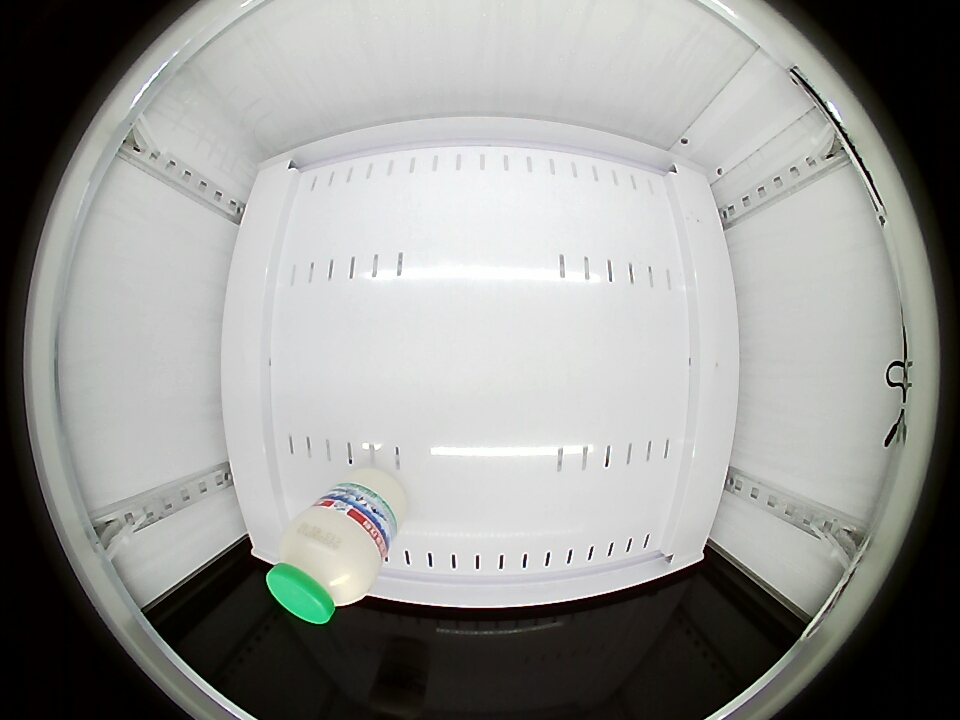liziyuan: (266, 500, 385, 624)
